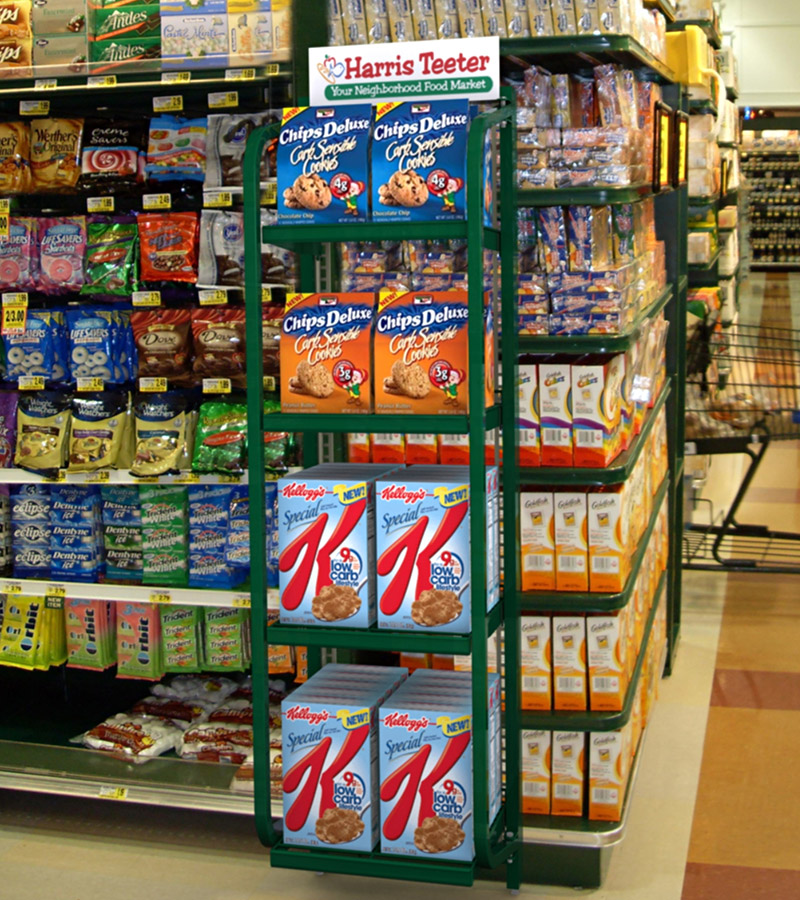box: (382, 731, 471, 866), (379, 495, 464, 629), (284, 495, 364, 626), (285, 715, 361, 846), (281, 117, 369, 217), (287, 303, 366, 408), (380, 321, 462, 409), (377, 123, 457, 207)
